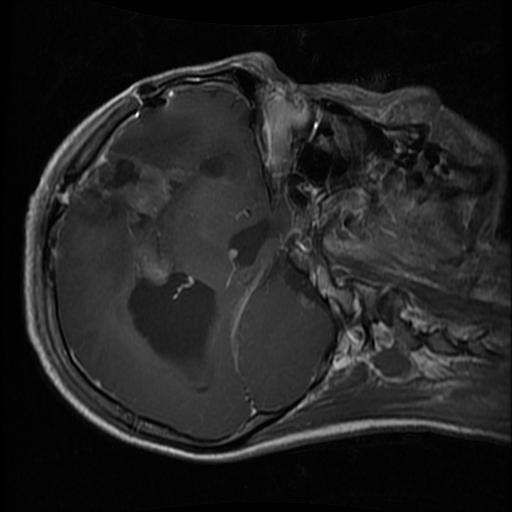glioma: (66, 114, 244, 374)
